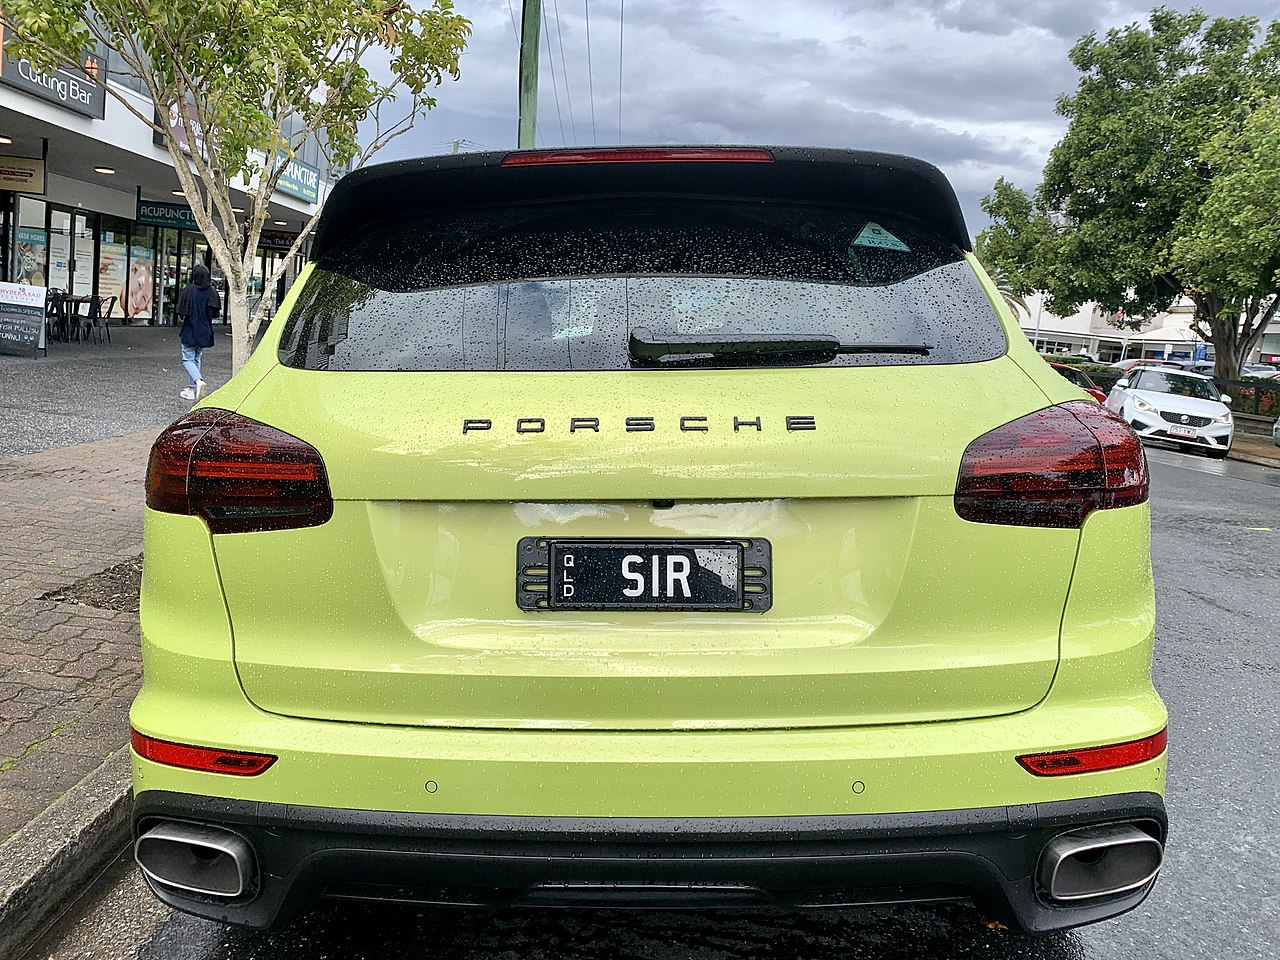plate: (513, 535, 774, 614)
